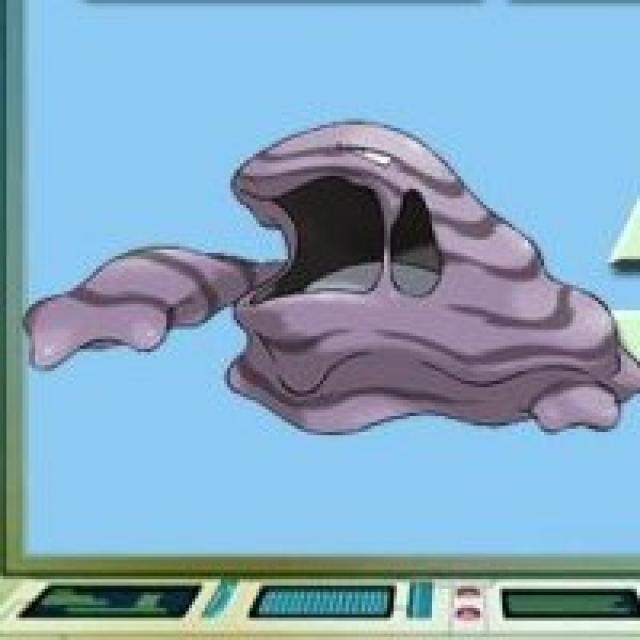Muk: (211, 122, 610, 420)
